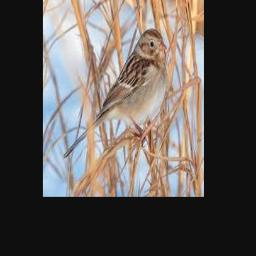Sparrow: (64, 28, 167, 159)
